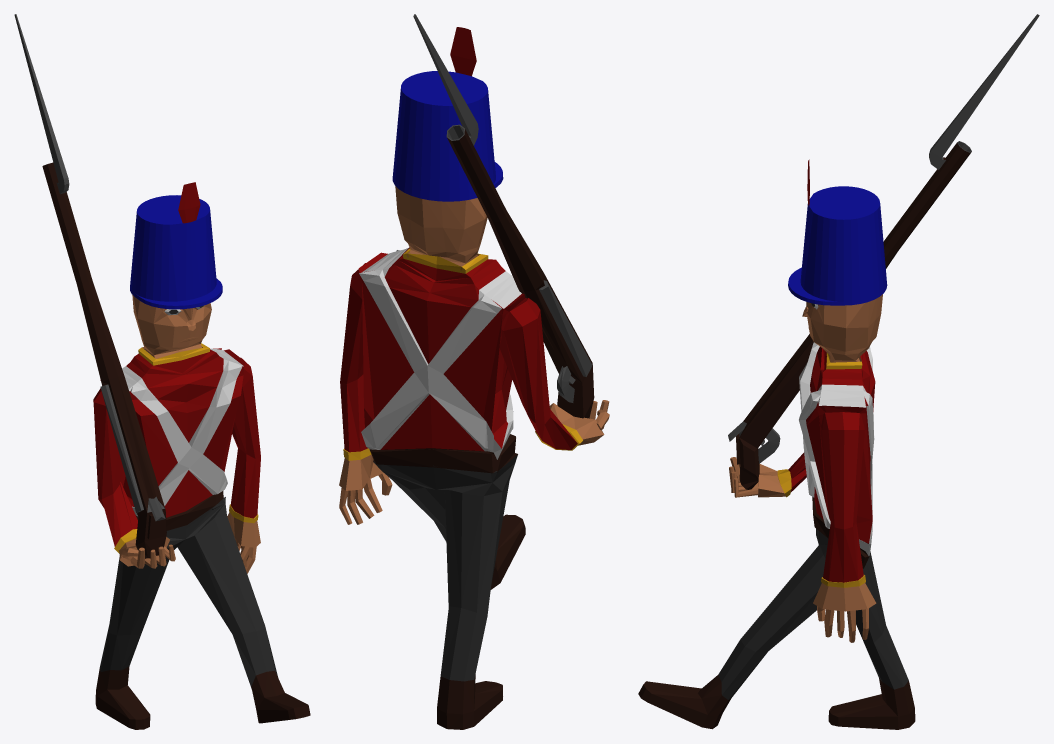
File: Infantry_000105.obj
3 renders of one model, left to right at view 1: azimuth 30°, elevation 25°; view 2: azimuth 150°, elevation 25°; view 3: azimuth 270°, elevation 25°, orthographic. The views are drawn at different scales.
Parts seen in each view (by area): view 1: {Man}_Circle, {Mesket}_Cube.001; view 2: {Man}_Circle, {Mesket}_Cube.001; view 3: {Man}_Circle, {Mesket}_Cube.001.
Part boxes in pixels (x1,y1,x2,y2): {Man}_Circle: (93,182,310,729); {Mesket}_Cube.001: (14,14,166,558); {Man}_Circle: (339,27,609,729); {Mesket}_Cube.001: (413,14,594,418); {Man}_Circle: (638,159,915,729); {Mesket}_Cube.001: (728,14,1039,489).
Bounding box in the file's own units: 5.63 × 19.43 × 10.21.
